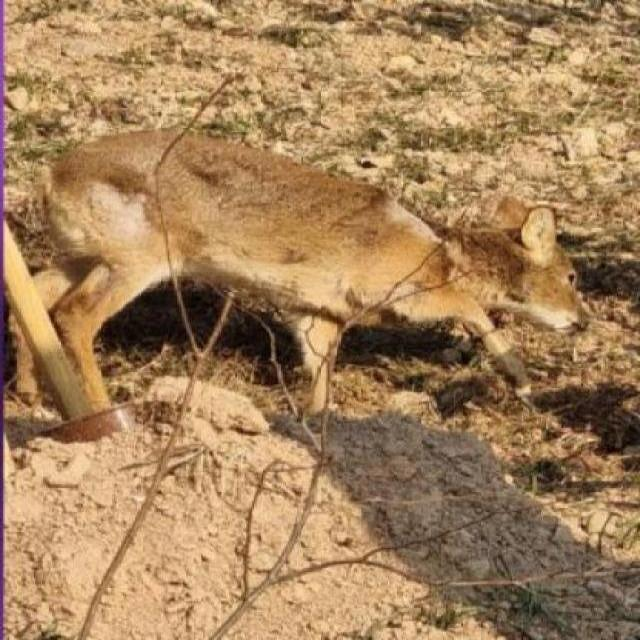deer: (0, 124, 597, 431)
